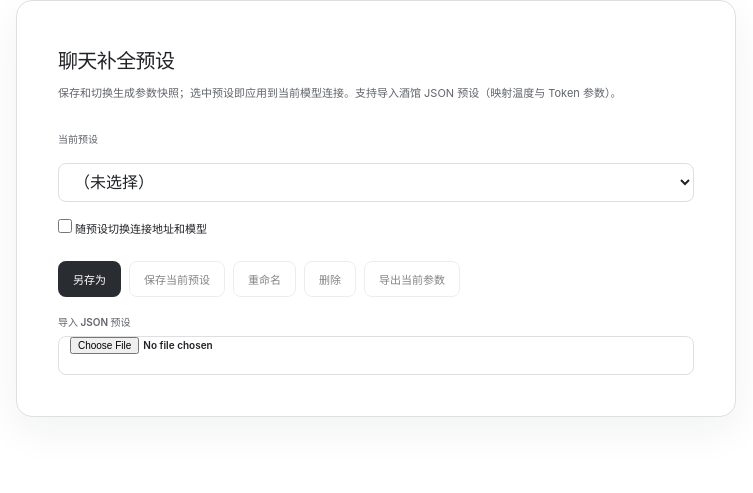
Scenario: applies a selected preset's generation fields to the saved provider connection
The width and height of the screenshot is (753, 493).
Select "Tavern import" in the dropdown labelled "当前预设" at {"x": 376, "y": 182}, box top-left (58, 163), bottom-right (694, 202)
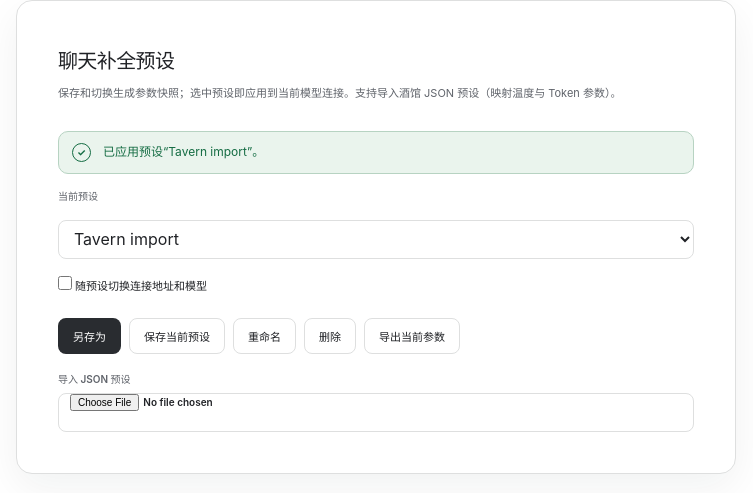
Check: the text "已应用预设“Tavern import”。" is shown, box top-left (103, 144), bottom-right (264, 159)
